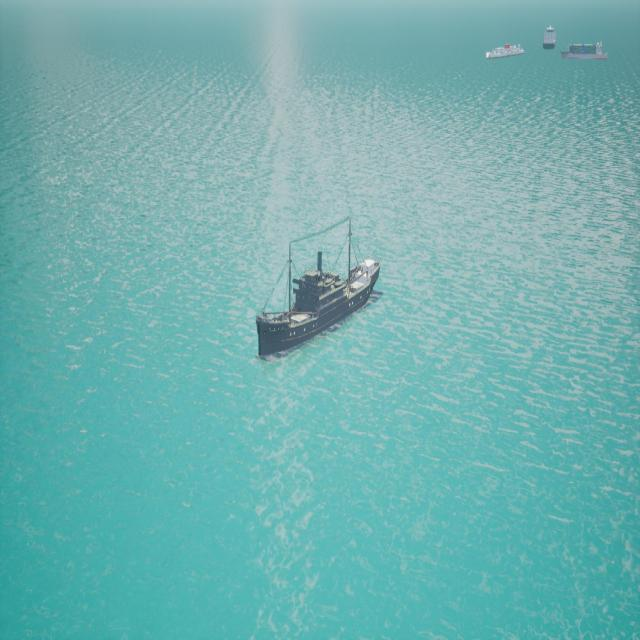fishing ship: (255, 248, 384, 361), (562, 42, 609, 62), (487, 45, 528, 62), (544, 26, 558, 51)
